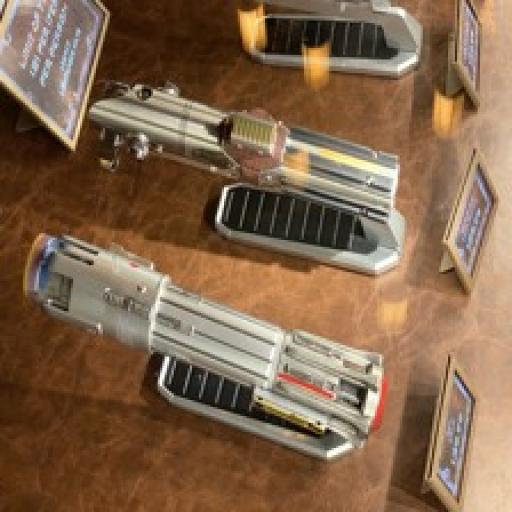lightsaber: (20, 235, 384, 450), (91, 78, 399, 223)
